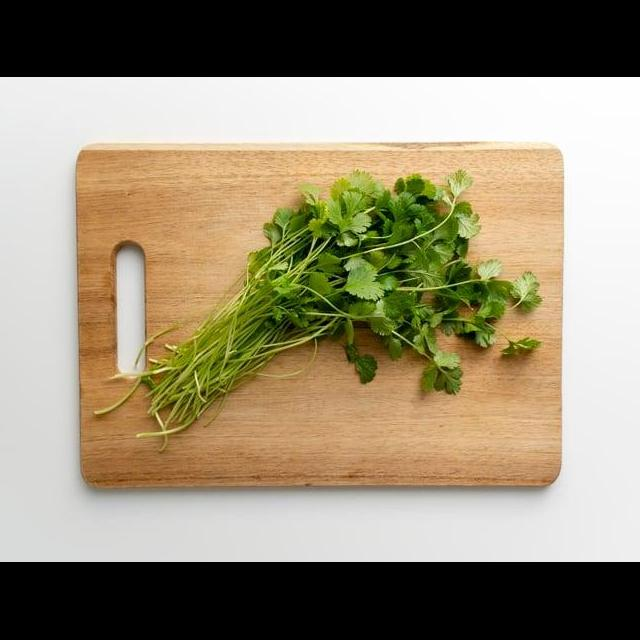cilantro: (92, 166, 543, 454)
